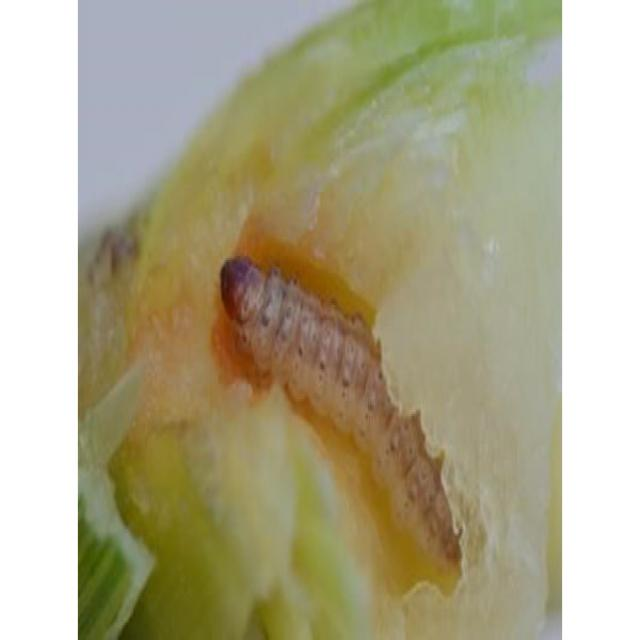cornborer-Larva-: (215, 251, 474, 577)
